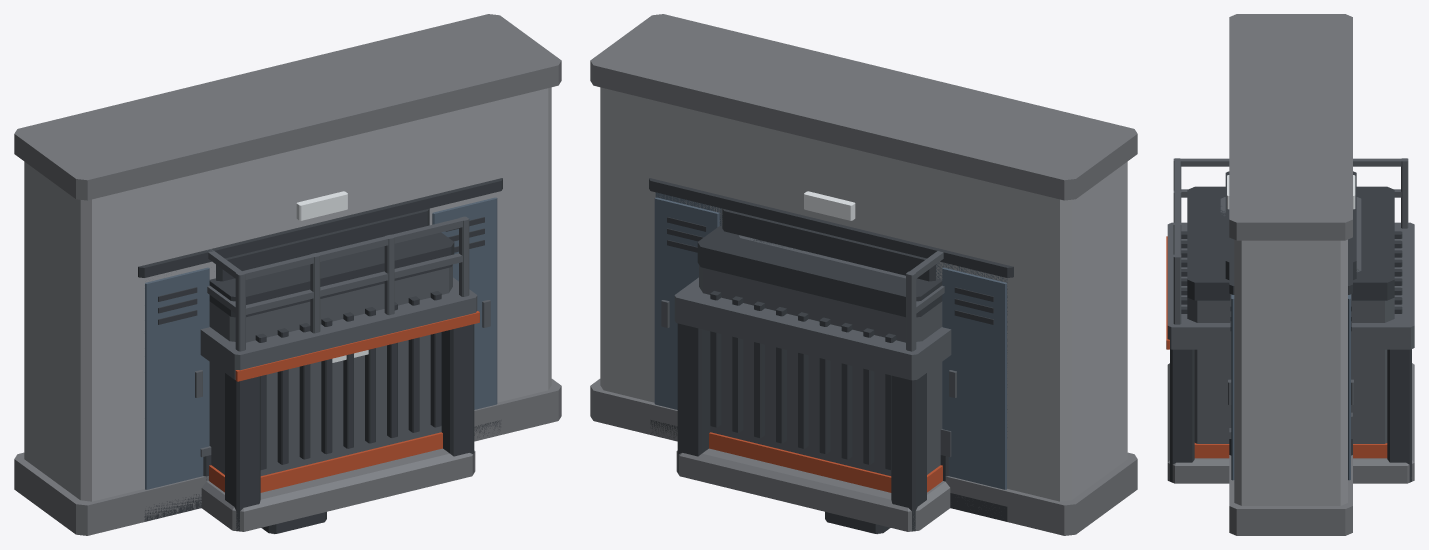
Rendered from Kit.fbx.
3 renders of one model, left to right at view 1: azimuth 30°, elevation 25°; view 2: azimuth 150°, elevation 25°; view 3: azimuth 270°, elevation 25°, orthographic. The views are drawn at different scales.
Parts seen in each view (by area): view 1: BlastWall_BK_Concrete, BlastWall_BK_ConcreteDark, LockerRow_BK_Locker, Generator_BK_Steel, Generator_BK_SteelDark, Overlook_BK_Steel, Overlook_BK_SteelDark, Generator_BK_ConcreteDark, LockerRow_BK_SteelDark, BlastWall_BK_SteelDark, Generator_BK_Hazard, Overlook_BK_Hazard (+2 smaller); view 2: BlastWall_BK_Concrete, BlastWall_BK_ConcreteDark, Generator_BK_SteelDark, LockerRow_BK_Locker, Generator_BK_Steel, Overlook_BK_Steel, Overlook_BK_SteelDark, Generator_BK_ConcreteDark, LockerRow_BK_SteelDark, BlastWall_BK_SteelDark, Generator_BK_Hazard, BlastWall_BK_LightGlow (+1 smaller); view 3: BlastWall_BK_ConcreteDark, BlastWall_BK_Concrete, Generator_BK_SteelDark, Overlook_BK_Steel, Generator_BK_Steel, Overlook_BK_SteelDark, Generator_BK_ConcreteDark, LockerRow_BK_Locker, Generator_BK_Hazard, BlastWall_BK_SteelDark, LockerRow_BK_SteelDark, BlastWall_BK_Steel.
Boxes of the visible parts, x1,y1,x2,y2 form: BlastWall_BK_Concrete: [24, 87, 551, 501]; BlastWall_BK_ConcreteDark: [14, 14, 561, 535]; LockerRow_BK_Locker: [145, 197, 497, 489]; Generator_BK_Steel: [209, 265, 452, 475]; Generator_BK_SteelDark: [209, 232, 454, 469]; Overlook_BK_Steel: [200, 216, 477, 379]; Overlook_BK_SteelDark: [225, 324, 474, 531]; Generator_BK_ConcreteDark: [201, 448, 475, 531]; LockerRow_BK_SteelDark: [138, 178, 502, 521]; BlastWall_BK_SteelDark: [216, 208, 429, 281]; Generator_BK_Hazard: [209, 432, 442, 492]; Overlook_BK_Hazard: [235, 311, 479, 381]; BlastWall_BK_Concrete: [600, 87, 1127, 501]; BlastWall_BK_ConcreteDark: [590, 14, 1137, 535]; Generator_BK_SteelDark: [697, 225, 942, 469]; LockerRow_BK_Locker: [654, 192, 1007, 489]; Generator_BK_Steel: [699, 265, 942, 475]; Overlook_BK_Steel: [674, 251, 951, 380]; Overlook_BK_SteelDark: [677, 323, 926, 531]; Generator_BK_ConcreteDark: [676, 448, 950, 531]; LockerRow_BK_SteelDark: [649, 178, 1013, 521]; BlastWall_BK_SteelDark: [722, 208, 935, 281]; Generator_BK_Hazard: [709, 432, 942, 492]; BlastWall_BK_LightGlow: [804, 191, 855, 220]; BlastWall_BK_ConcreteDark: [1229, 14, 1352, 535]; BlastWall_BK_Concrete: [1234, 239, 1347, 505]; Generator_BK_SteelDark: [1181, 186, 1402, 313]; Overlook_BK_Steel: [1167, 158, 1414, 349]; Generator_BK_Steel: [1187, 297, 1394, 443]; Overlook_BK_SteelDark: [1170, 349, 1411, 482]; Generator_BK_ConcreteDark: [1167, 363, 1414, 483]; LockerRow_BK_Locker: [1231, 294, 1350, 480]; Generator_BK_Hazard: [1194, 443, 1387, 458]; BlastWall_BK_SteelDark: [1225, 171, 1356, 279]; LockerRow_BK_SteelDark: [1229, 237, 1352, 331]; BlastWall_BK_Steel: [1220, 197, 1361, 272].
Bounding box in the file's own units: 20 × 16.7 × 10.05.
